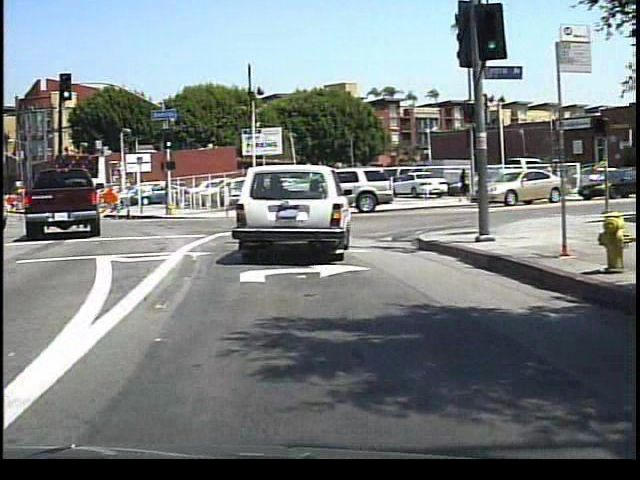person: (452, 163, 470, 205)
